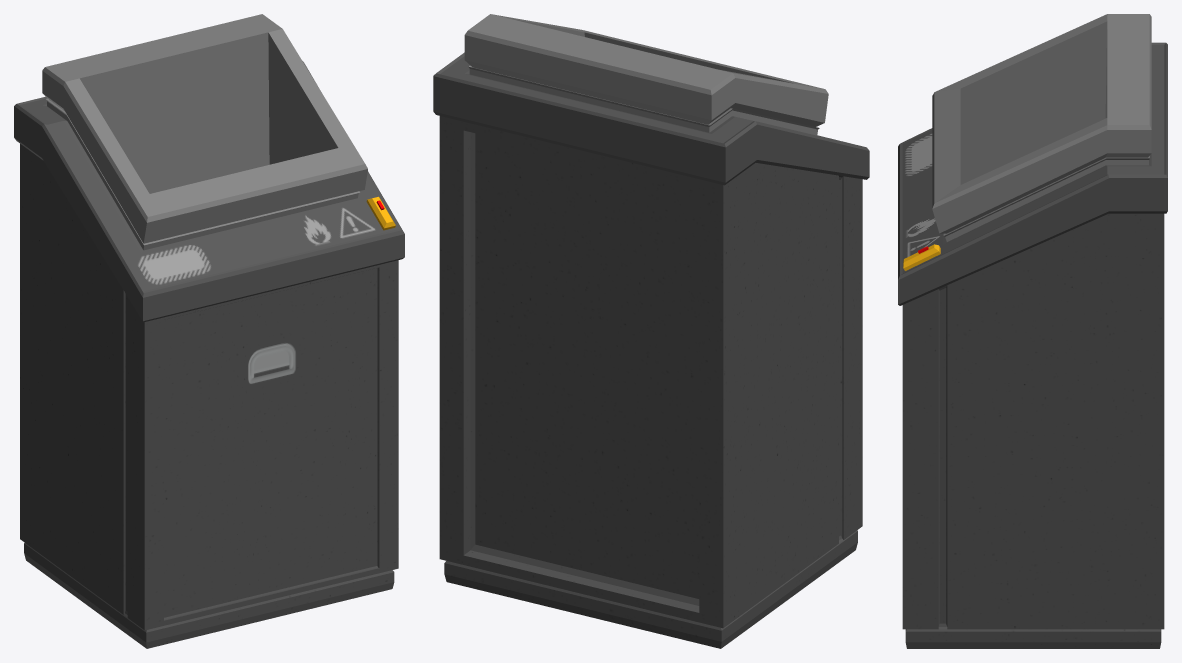
File: PaperShredder.fbx
3 renders of one model, left to right at view 1: azimuth 30°, elevation 25°; view 2: azimuth 150°, elevation 25°; view 3: azimuth 270°, elevation 25°, orthographic. The views are drawn at different scales.
Visible parts, largest first — view 1: Paper Shredder; view 2: Paper Shredder; view 3: Paper Shredder.
Part boxes in pixels (x1,y1,x2,y2): Paper Shredder: [14, 14, 404, 648]; Paper Shredder: [433, 14, 869, 648]; Paper Shredder: [898, 14, 1167, 648].
Bounding box in the file's own units: 32.32 × 58.19 × 27.55.
1 material, 1 textured.
